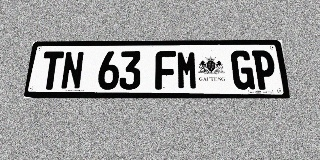3: (119, 51, 141, 90)
6: (97, 51, 120, 90)
F: (155, 51, 176, 90)
G: (230, 50, 255, 90)
M: (177, 51, 198, 90)
N: (60, 51, 85, 90)
P: (252, 50, 278, 90)
T: (39, 51, 64, 90)
